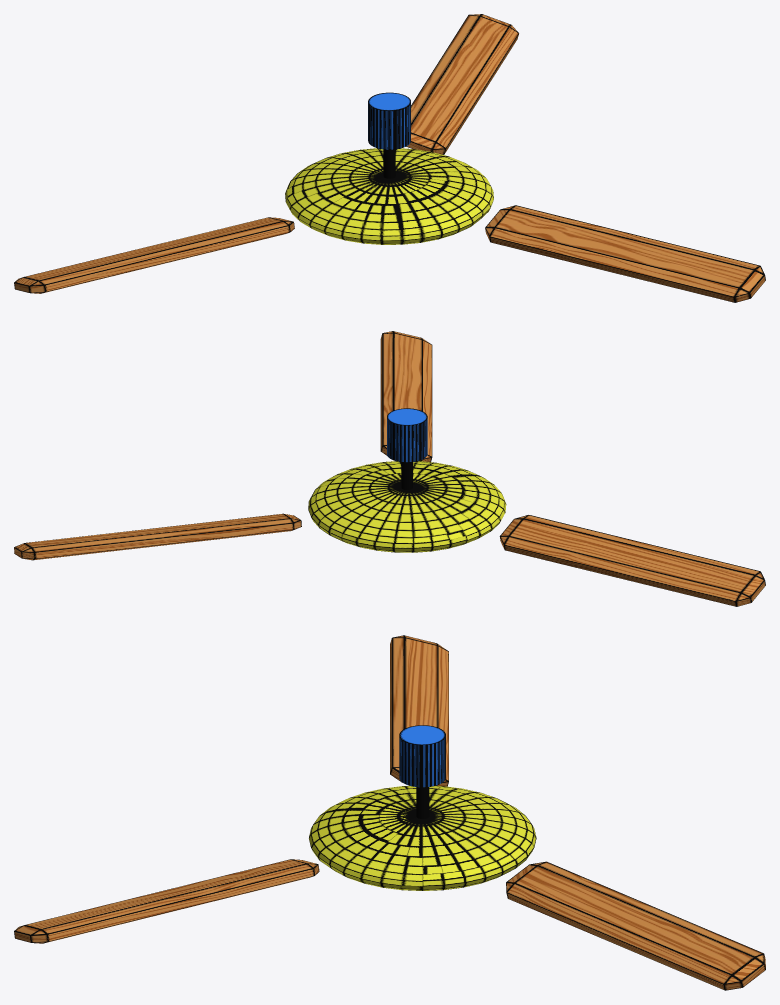
File: CeilingFan.fbx
3 renders of one model, top to bottom at view 1: azimuth 30°, elevation 25°; view 2: azimuth 150°, elevation 25°; view 3: azimuth 270°, elevation 25°, orthographic. The views are drawn at different scales.
Visible parts, largest first — view 1: Fan; view 2: Fan; view 3: Fan.
Part boxes in pixels (x1=…): Fan: x1=14, y1=14, x2=765, y2=302; Fan: x1=14, y1=331, x2=765, y2=606; Fan: x1=14, y1=635, x2=765, y2=990.
Size of the model in its own units: 4.81 by 0.8297 by 4.52.
